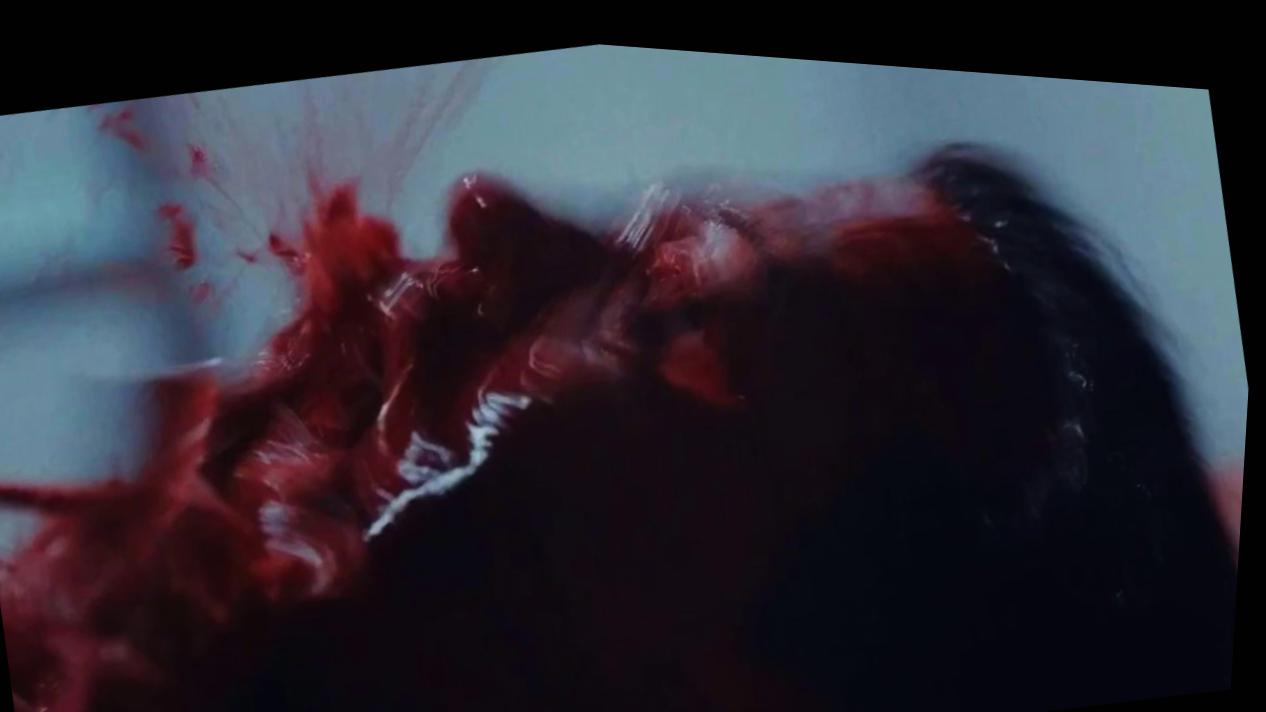Fire: (0, 51, 1002, 712)
